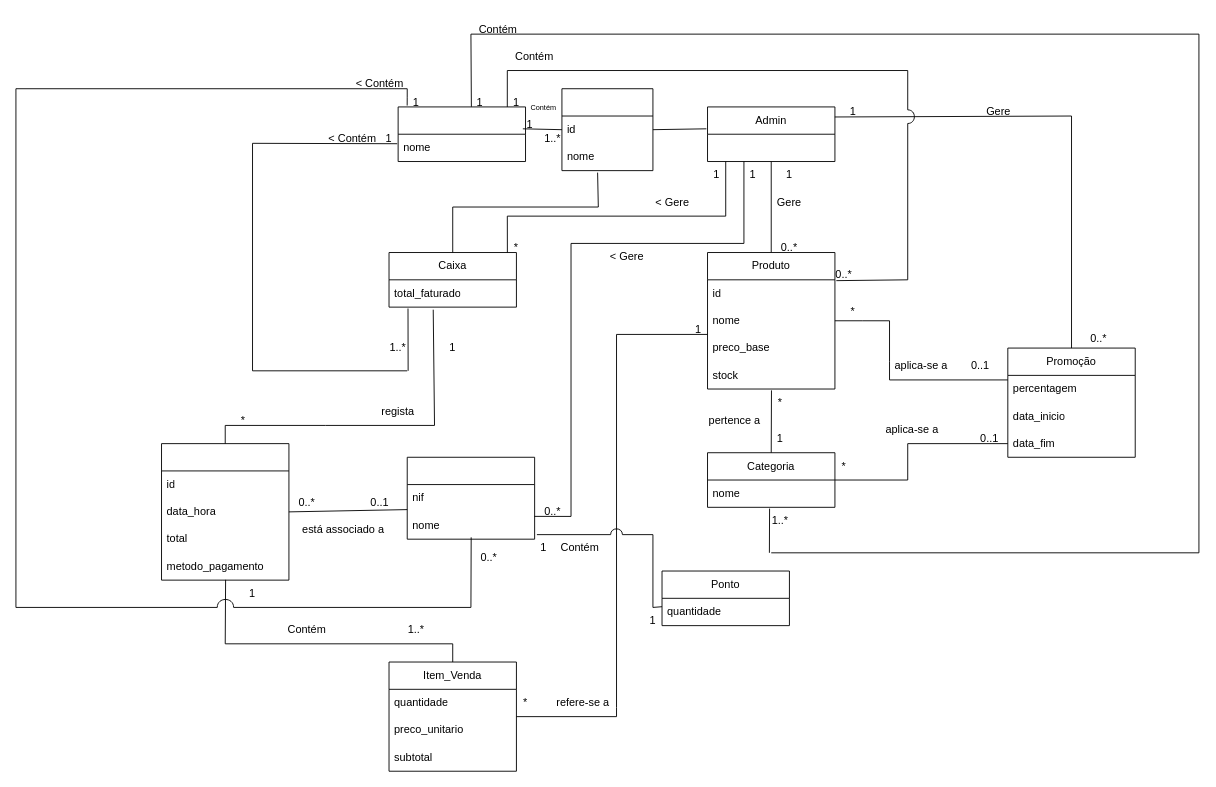
Some shapes in this 1216 by 787 pixel diagram are drawn without their labels. Each missing label, with the box of its shape:
Cliente: (406, 456, 535, 539)
Supermercado: (397, 106, 526, 162)
Utilizador: (561, 88, 653, 171)
Venda: (161, 443, 289, 580)
